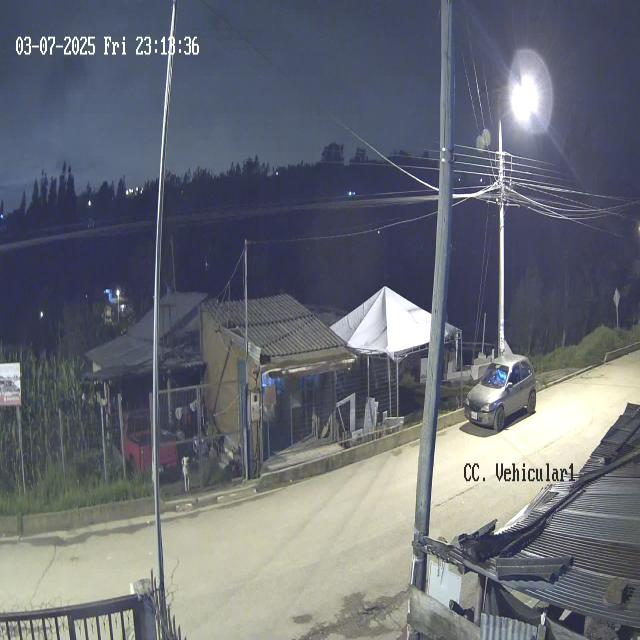SED: (465, 352, 537, 436)
